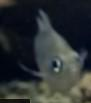Glass Perchlet: (21, 9, 88, 93)
